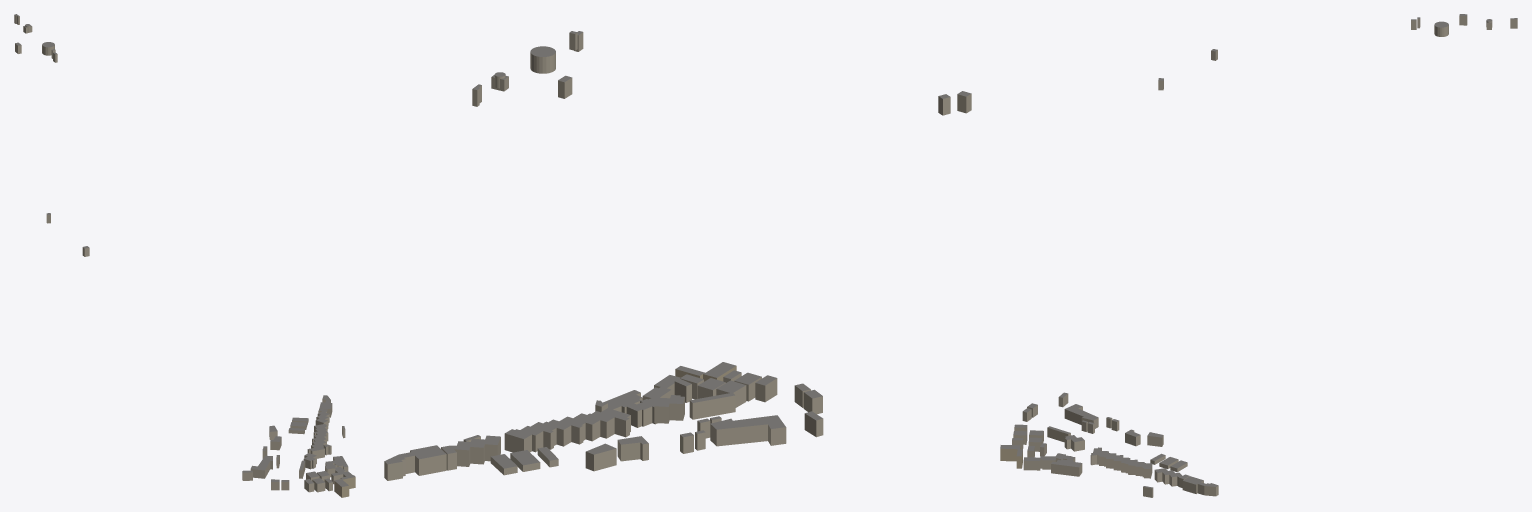
The model's file is buildings.glb.
3 views of the same model, side by side, from view 1: azimuth 30°, elevation 25°; view 2: azimuth 150°, elevation 25°; view 3: azimuth 270°, elevation 25° (orthographic). The views are drawn at different scales.
Parts seen in each view (by area): view 1: T_E1_N2_buildings; view 2: T_E1_N2_buildings; view 3: T_E1_N2_buildings.
Boxes of the visible parts, left/top/right/bottom form: T_E1_N2_buildings: left=14, top=14, right=355, bottom=497; T_E1_N2_buildings: left=384, top=31, right=971, bottom=480; T_E1_N2_buildings: left=1000, top=14, right=1517, bottom=497.
Size of the model in its own units: 353 by 410 by 496.
